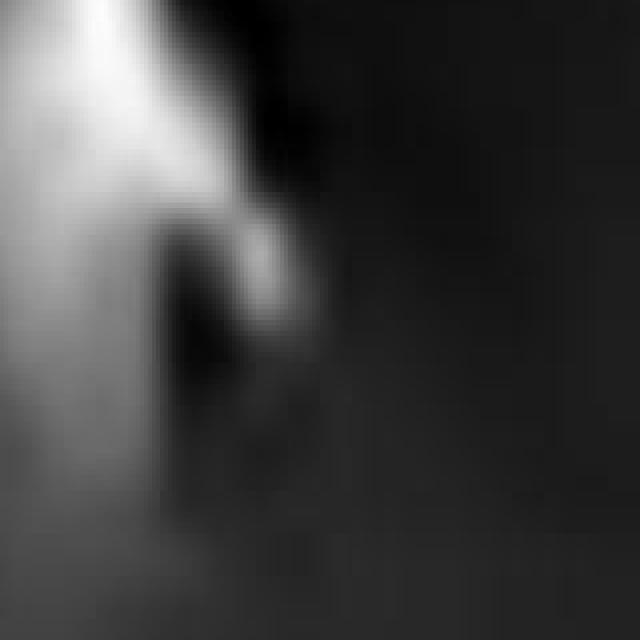person: (1, 1, 301, 476)
